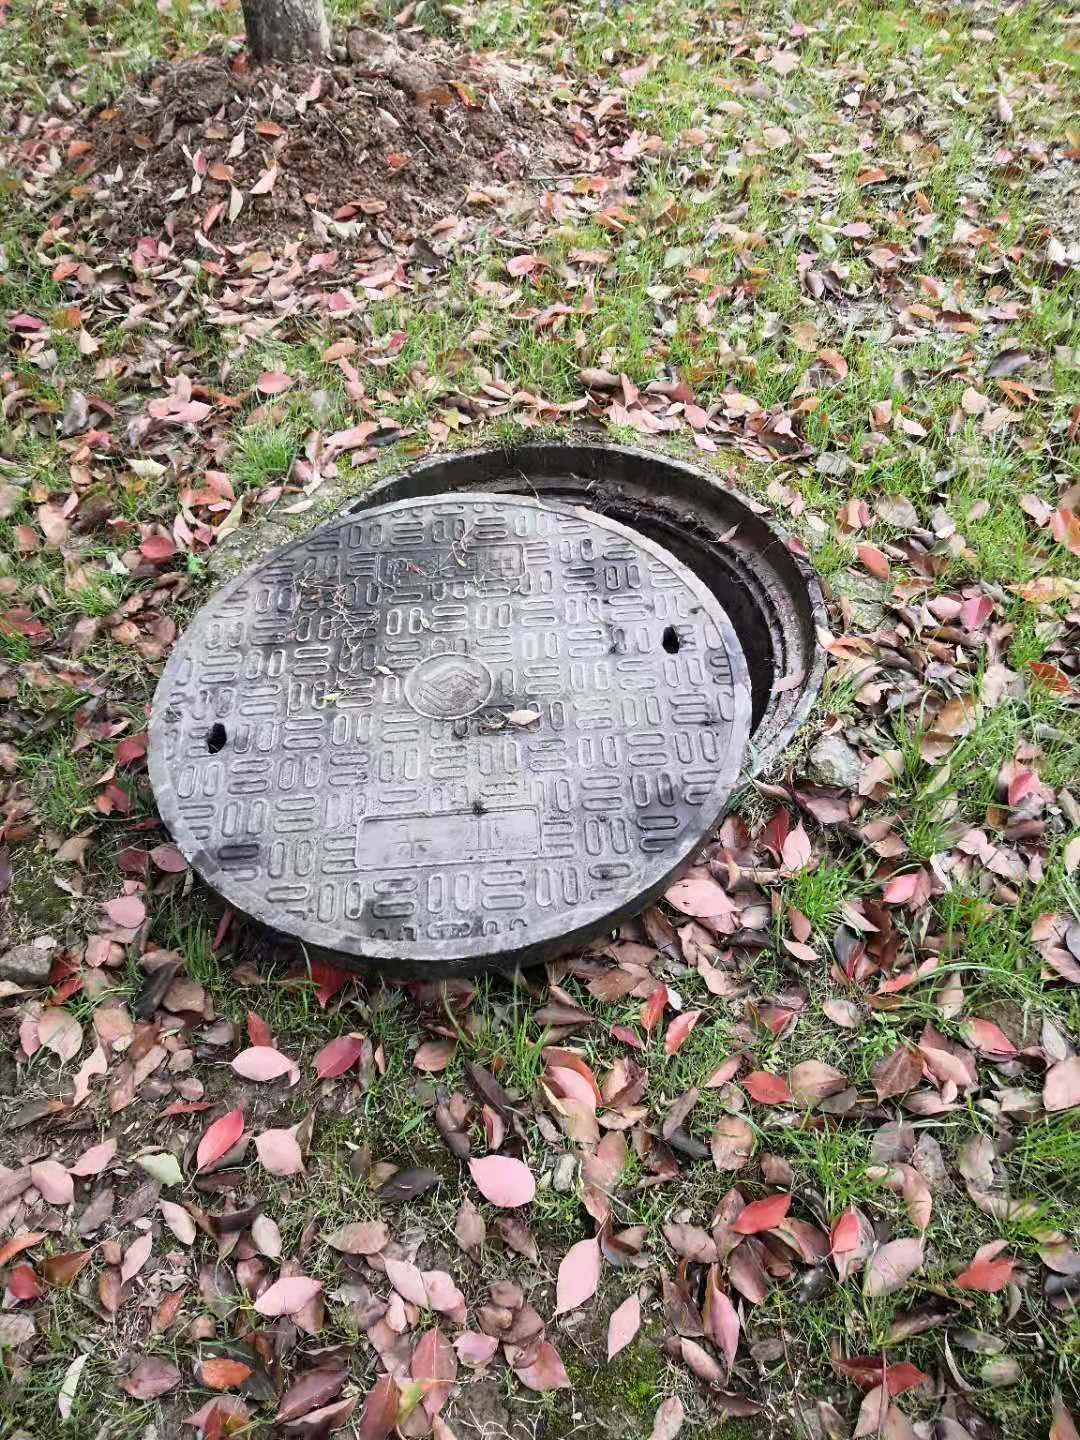well: (136, 429, 829, 969)
